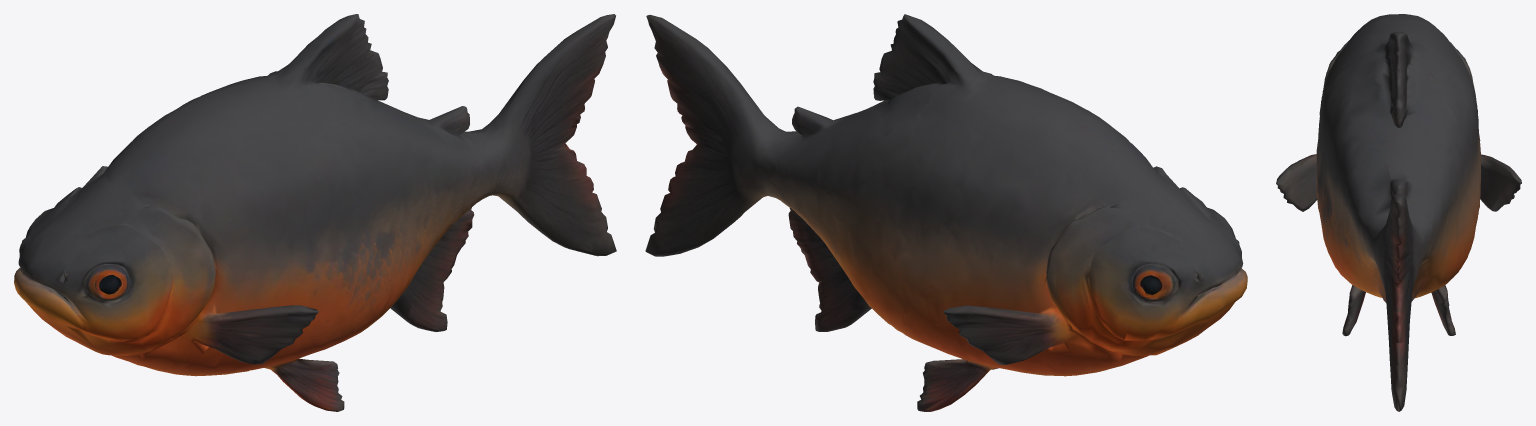
File: fish-paku.glb
3 views of the same model, side by side, from view 1: azimuth 30°, elevation 25°; view 2: azimuth 150°, elevation 25°; view 3: azimuth 270°, elevation 25° (orthographic). The views are drawn at different scales.
Parts seen in each view (by area): view 1: tripo_node_9eab1f6a-b957-45ac-9299-9125a0560e4e; view 2: tripo_node_9eab1f6a-b957-45ac-9299-9125a0560e4e; view 3: tripo_node_9eab1f6a-b957-45ac-9299-9125a0560e4e.
Part boxes in pixels (bbox=[...]): tripo_node_9eab1f6a-b957-45ac-9299-9125a0560e4e: bbox=[14, 14, 616, 411]; tripo_node_9eab1f6a-b957-45ac-9299-9125a0560e4e: bbox=[645, 14, 1247, 411]; tripo_node_9eab1f6a-b957-45ac-9299-9125a0560e4e: bbox=[1276, 14, 1521, 411].
Bounding box in the file's own units: 0.9997 × 0.5829 × 0.4041.
Materials: 1 (1 with a texture image).
